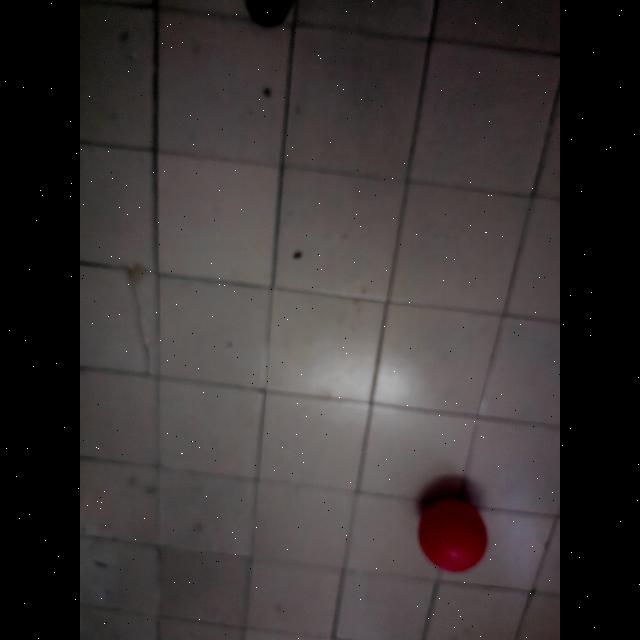R: (416, 495, 492, 575)
